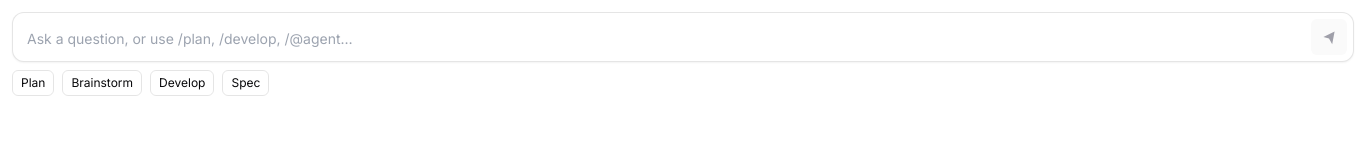
Scenario: ChatComposer › chip interaction › clicking Plan chip sets textarea to /plan  and focuses it
The width and height of the screenshot is (1366, 160).
Click the button with test id "chat-composer-chip-plan" at point(33, 83), box [12,70,54,96]
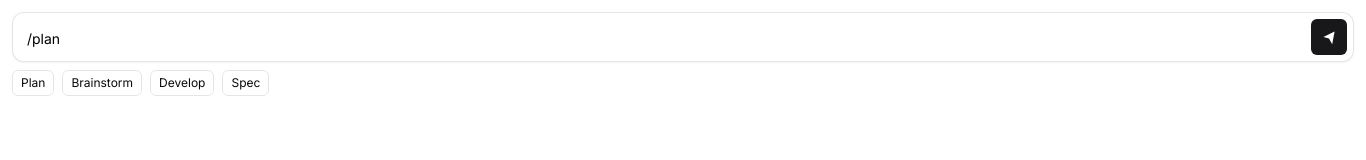
expect the text box with test id "chat-composer-textarea" holds "/plan ": met, box [19,23,1303,55]
